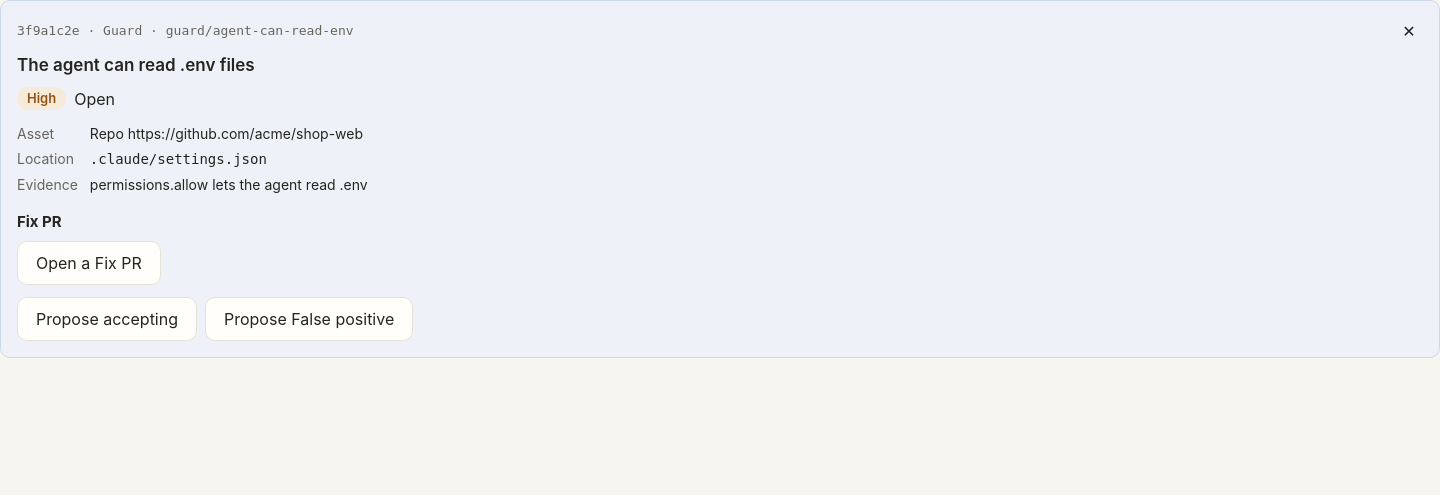
it: opening a Fix PR › a 200 shows Fix PR #12 is still open.
This screenshot has width=1440, height=495.
Click the button "Open a Fix PR" at (89, 263), box [17, 241, 161, 285]
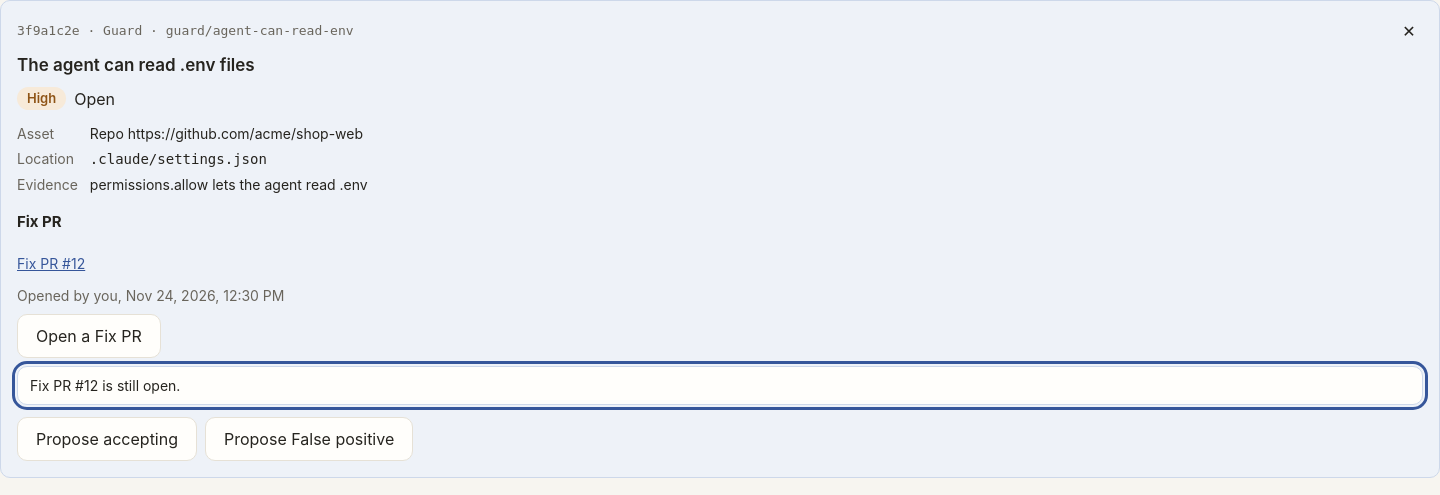
expect the link "Fix PR #12" is shown: met, box [17, 254, 85, 272]
